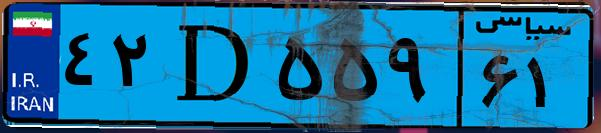1: (525, 38, 570, 115)
2: (110, 28, 158, 98)
4: (57, 26, 110, 100)
5: (270, 28, 330, 110), (330, 28, 385, 110)
6: (475, 38, 525, 113)
9: (385, 28, 445, 110)
D: (158, 12, 270, 120)
